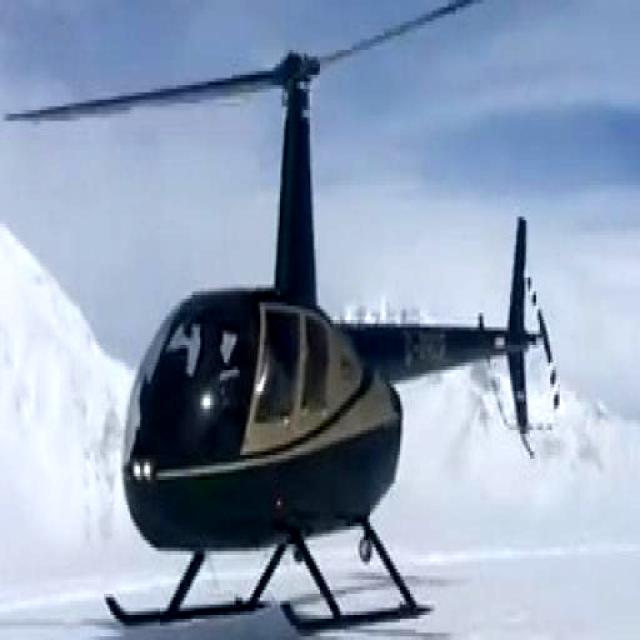drone: (96, 0, 561, 638)
